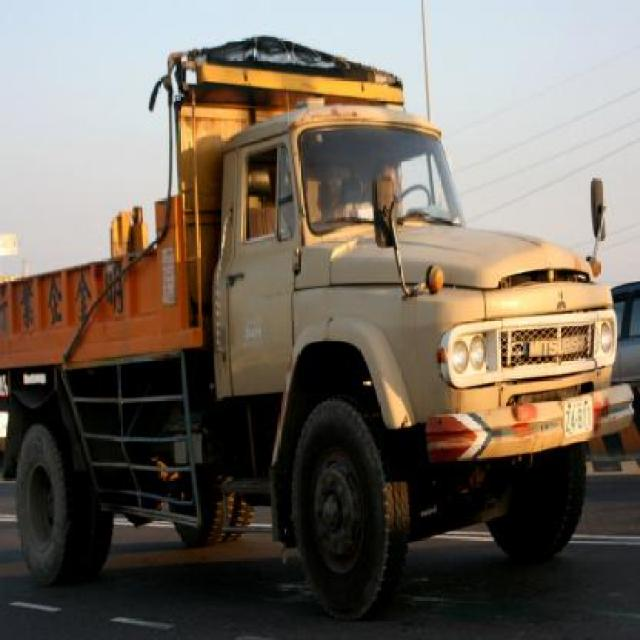truck: (1, 32, 636, 609)
